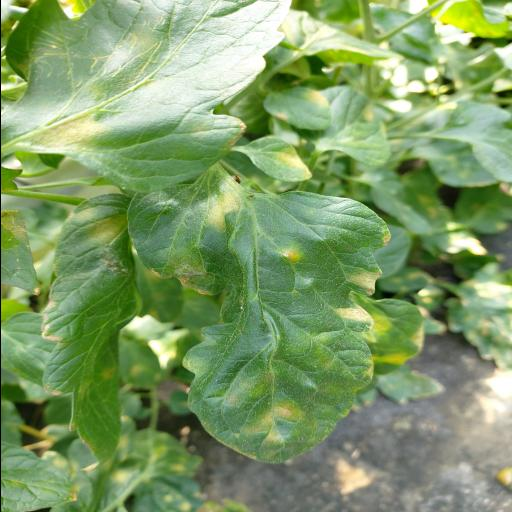Leaf Mold: (128, 176, 390, 464), (4, 0, 291, 192), (39, 194, 183, 470)
